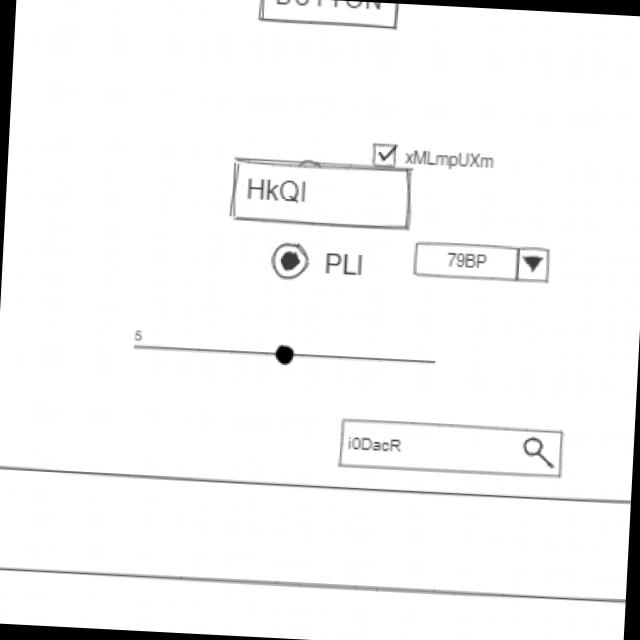button: (254, 1, 403, 35)
checkbox: (372, 139, 497, 177)
container: (1, 461, 632, 607)
input: (228, 154, 419, 238)
radio: (268, 240, 371, 286)
search: (337, 415, 568, 483)
select: (412, 240, 557, 288)
slider: (149, 335, 441, 375)
